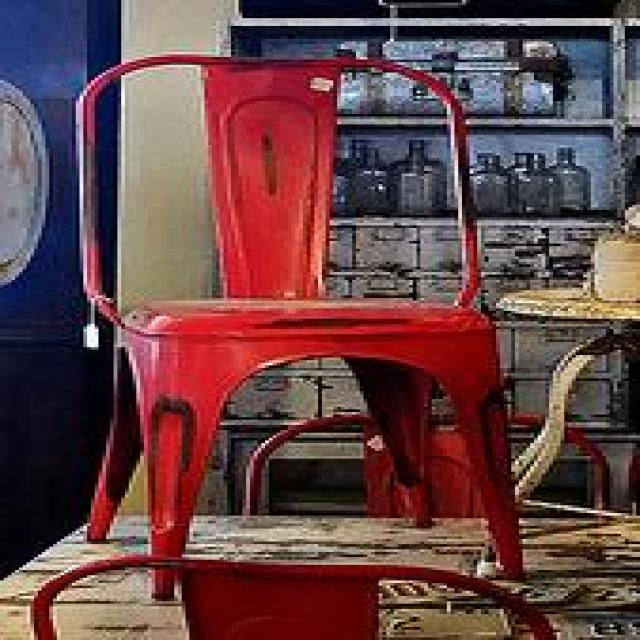chair: (77, 53, 524, 604)
